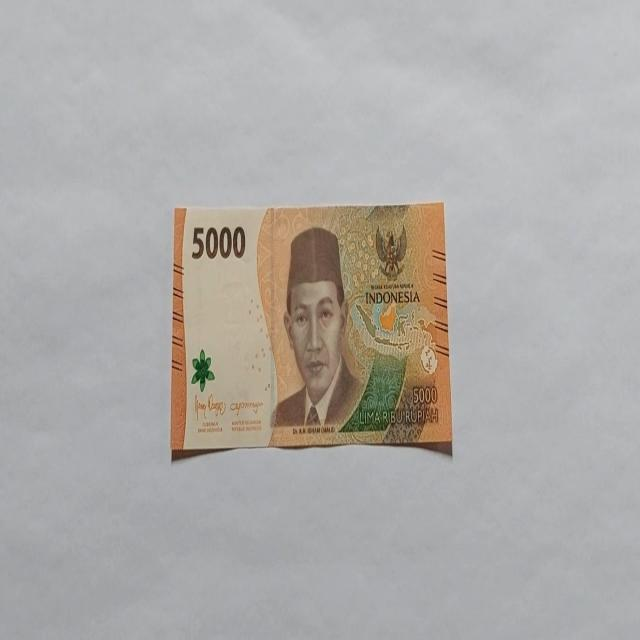lima ribu rupiah: (170, 200, 454, 460), (270, 224, 364, 430)
